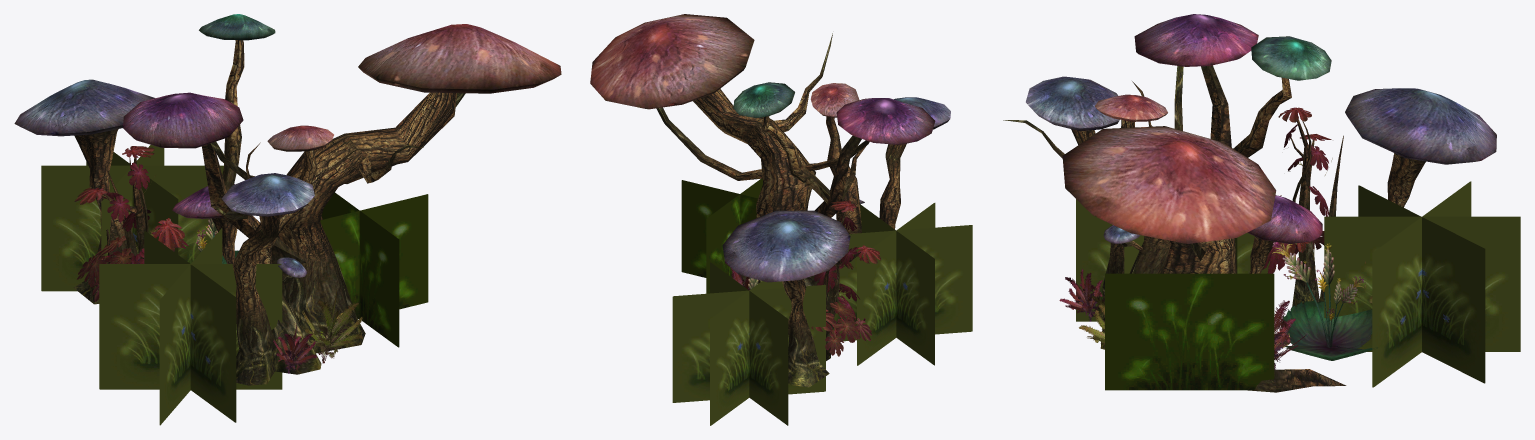
File: mogu_01.FBX
3 renders of one model, left to right at view 1: azimuth 30°, elevation 25°; view 2: azimuth 150°, elevation 25°; view 3: azimuth 270°, elevation 25°, orthographic. The views are drawn at different scales.
Visible parts, largest first — view 1: mogu_01_12, mogu_01_11, mogu_01_05, mogu_01_08, mogu_01_04, mogu_01_03, mogu_01_01, mogu_01_06, mogu_01_02, mogu_01_07, mogu_01_09; view 2: mogu_01_12, mogu_01_11, mogu_01_05, mogu_01_04, mogu_01_08, mogu_01_03, mogu_01_02, mogu_01_01, mogu_01_07; view 3: mogu_01_12, mogu_01_05, mogu_01_08, mogu_01_11, mogu_01_04, mogu_01_03, mogu_01_10, mogu_01_02, mogu_01_01, mogu_01_09, mogu_01_06.
Part boxes in pixels (left/top/right/bottom): mogu_01_12: left=41, top=145, right=282, bottom=425; mogu_01_11: left=73, top=40, right=465, bottom=385; mogu_01_05: left=267, top=24, right=561, bottom=151; mogu_01_08: left=320, top=192, right=428, bottom=347; mogu_01_04: left=14, top=79, right=314, bottom=277; mogu_01_03: left=123, top=92, right=243, bottom=218; mogu_01_01: left=74, top=146, right=188, bottom=263; mogu_01_06: left=128, top=226, right=362, bottom=363; mogu_01_02: left=199, top=14, right=275, bottom=40; mogu_01_07: left=77, top=236, right=133, bottom=301; mogu_01_09: left=273, top=323, right=316, bottom=373; mogu_01_12: left=672, top=203, right=972, bottom=425; mogu_01_11: left=656, top=33, right=906, bottom=387; mogu_01_05: left=590, top=14, right=859, bottom=117; mogu_01_04: left=722, top=97, right=950, bottom=282; mogu_01_08: left=681, top=178, right=762, bottom=293; mogu_01_03: left=836, top=98, right=935, bottom=144; mogu_01_02: left=733, top=82, right=794, bottom=118; mogu_01_01: left=814, top=200, right=880, bottom=320; mogu_01_07: left=811, top=302, right=871, bottom=356; mogu_01_12: left=1076, top=181, right=1520, bottom=387; mogu_01_05: left=1062, top=94, right=1276, bottom=243; mogu_01_08: left=1105, top=273, right=1274, bottom=390; mogu_01_11: left=1003, top=65, right=1425, bottom=392; mogu_01_04: left=1026, top=76, right=1496, bottom=243; mogu_01_03: left=1134, top=14, right=1322, bottom=243; mogu_01_10: left=1272, top=242, right=1377, bottom=360; mogu_01_02: left=1251, top=36, right=1331, bottom=80; mogu_01_01: left=1262, top=107, right=1332, bottom=273; mogu_01_09: left=1059, top=269, right=1306, bottom=369; mogu_01_06: left=1079, top=261, right=1372, bottom=346.
Size of the model in its own units: 16.08 by 11.36 by 16.07.
